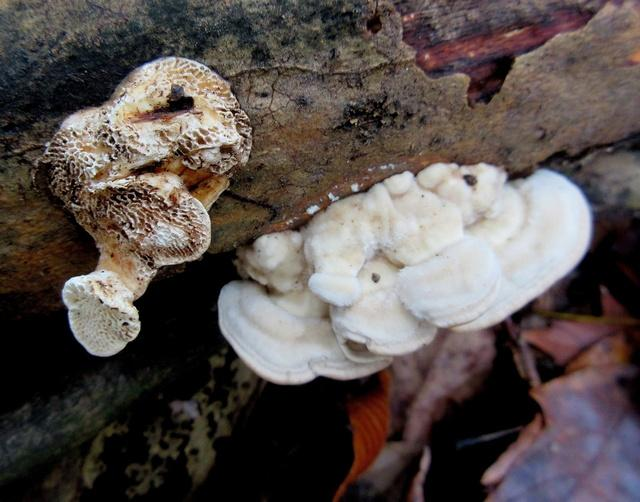poisonous_mushroom: (229, 154, 594, 387), (32, 54, 253, 357)
